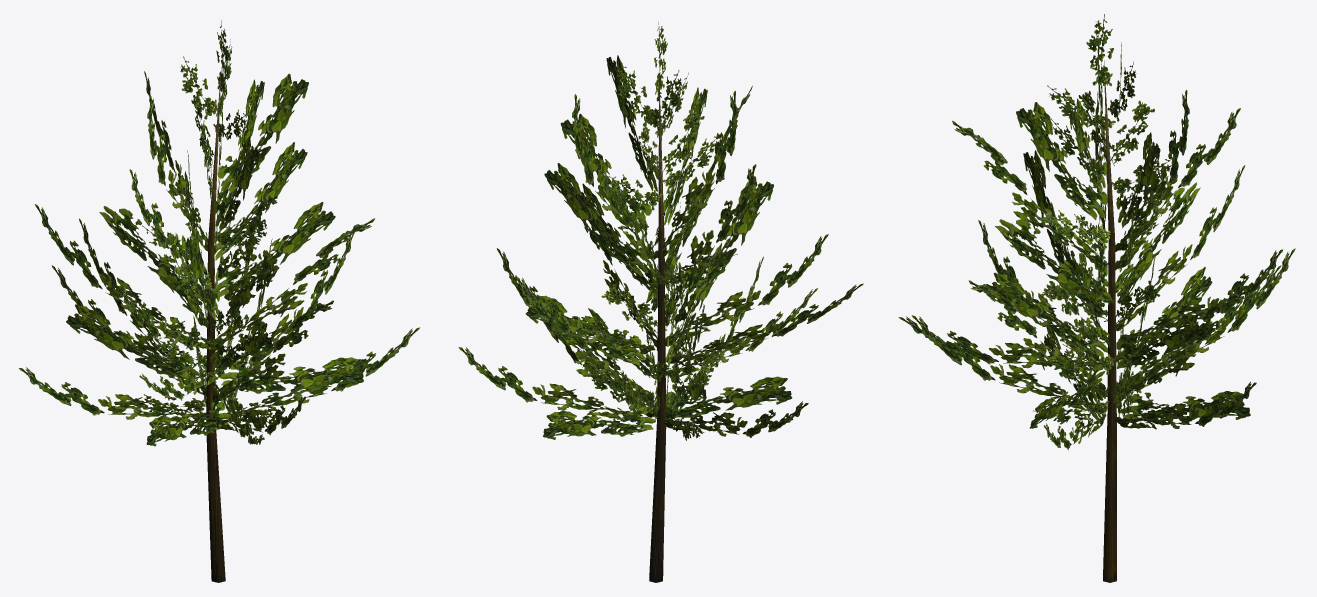
The model's file is StreetTree.obj.
3 renders of one model, left to right at view 1: azimuth 30°, elevation 25°; view 2: azimuth 150°, elevation 25°; view 3: azimuth 270°, elevation 25°, orthographic.
Visible parts, largest first — view 1: TreeStreet; view 2: TreeStreet; view 3: TreeStreet.
Boxes of the visible parts, x1,y1,x2,y2 form: TreeStreet: (19, 20, 419, 582); TreeStreet: (458, 21, 863, 582); TreeStreet: (898, 14, 1295, 582).
Bounding box in the file's own units: 10.97 × 16.64 × 10.83.
1 material, 1 textured.
